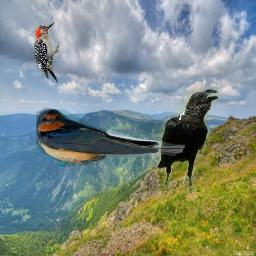Crow: (155, 86, 221, 195)
Swallow: (33, 106, 185, 167)
Woodpecker: (32, 21, 59, 87)
